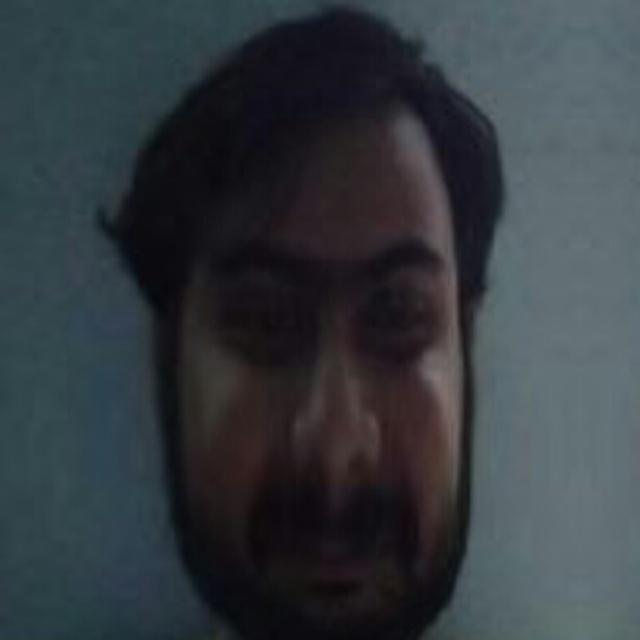Happy: (146, 67, 518, 628)
